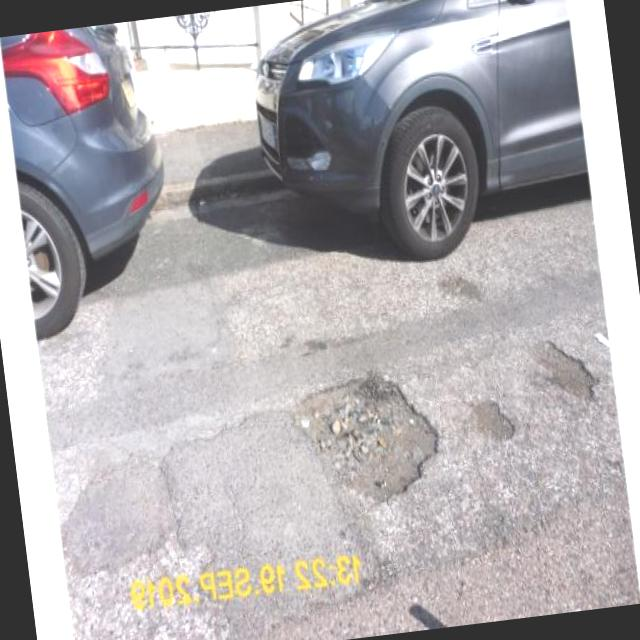pothole: (292, 358, 448, 509), (526, 328, 606, 406), (468, 392, 520, 444)
